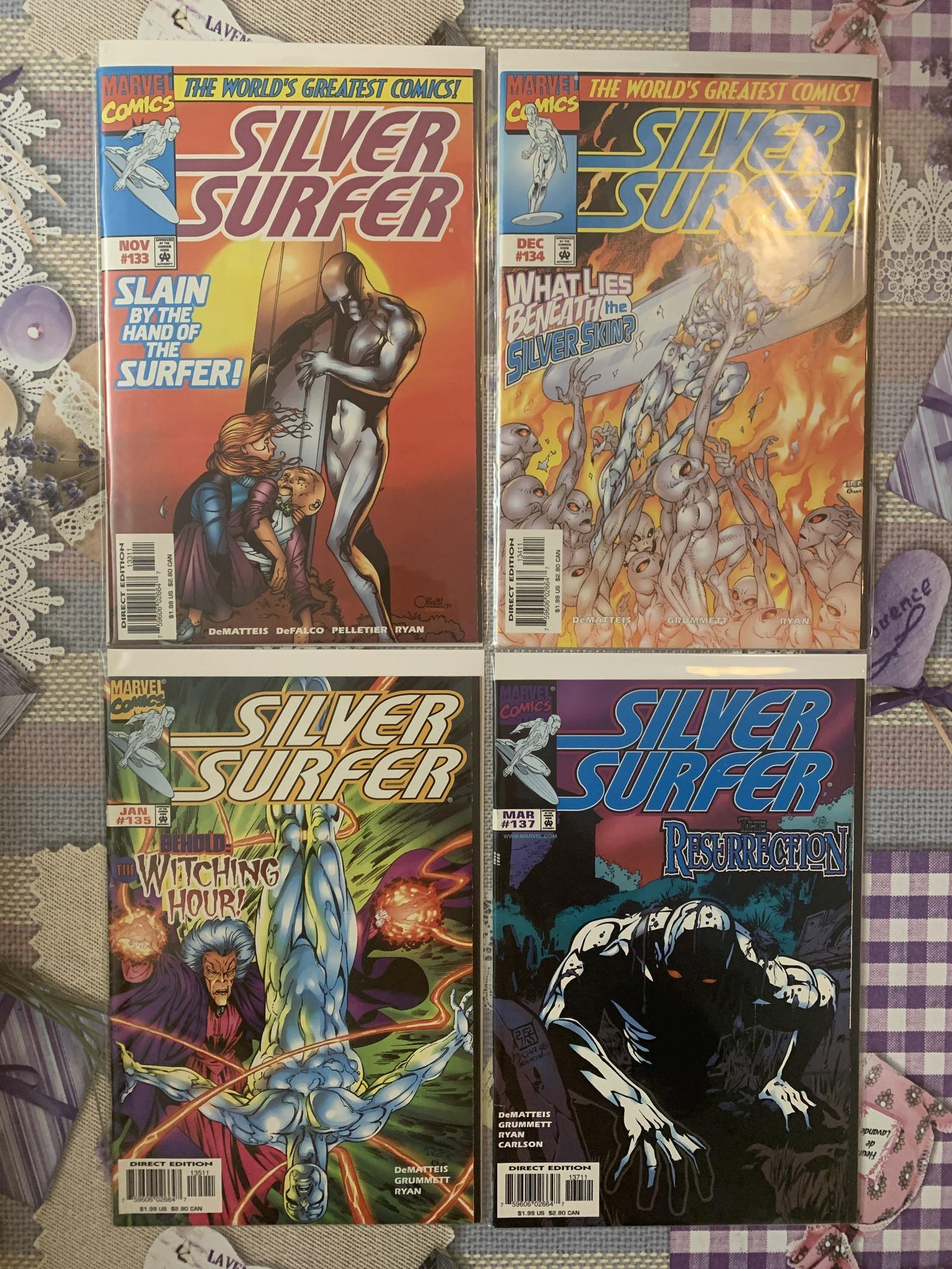comic: (98, 41, 486, 646), (493, 52, 876, 651), (489, 651, 865, 1227), (105, 649, 481, 1224)
